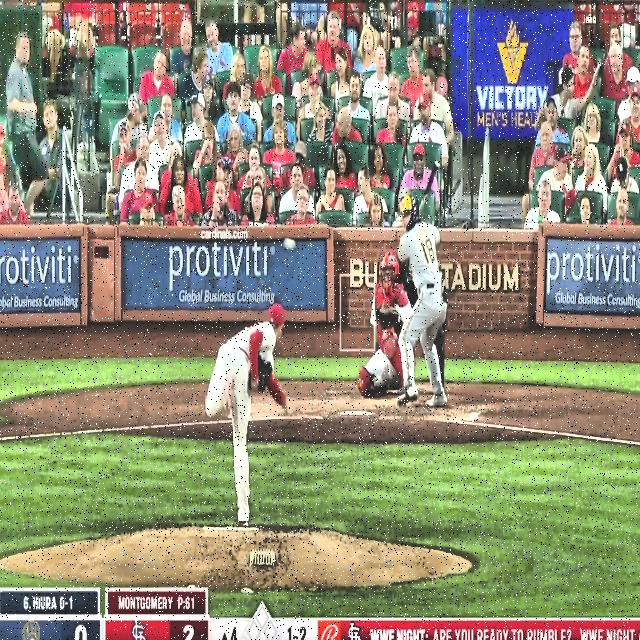baseball: (283, 235, 298, 253)
